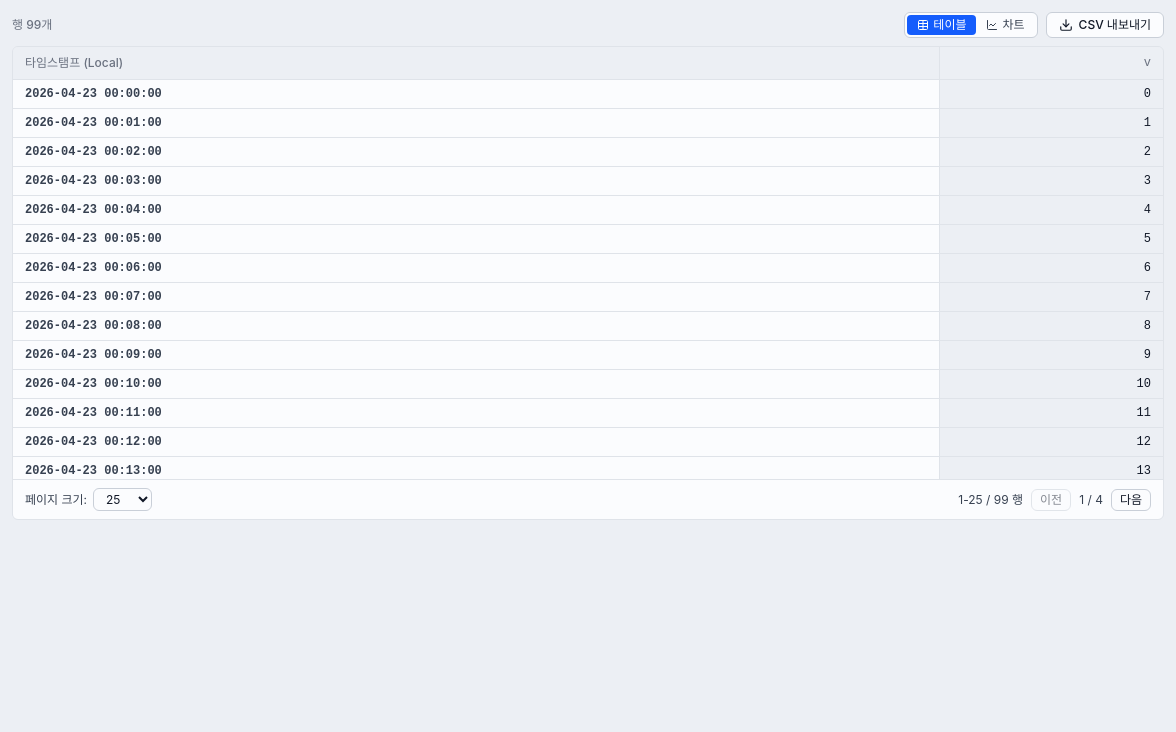
it: SeriesResultMatrix: 페이지네이션 › 페이지 크기 100 으로 99 행 매트릭스는 "1-99 / 99 행"
The image size is (1176, 732).
Select "100" in the dropdown with test id "tsdb-page-size" at (122, 500), box [93,488,152,511]
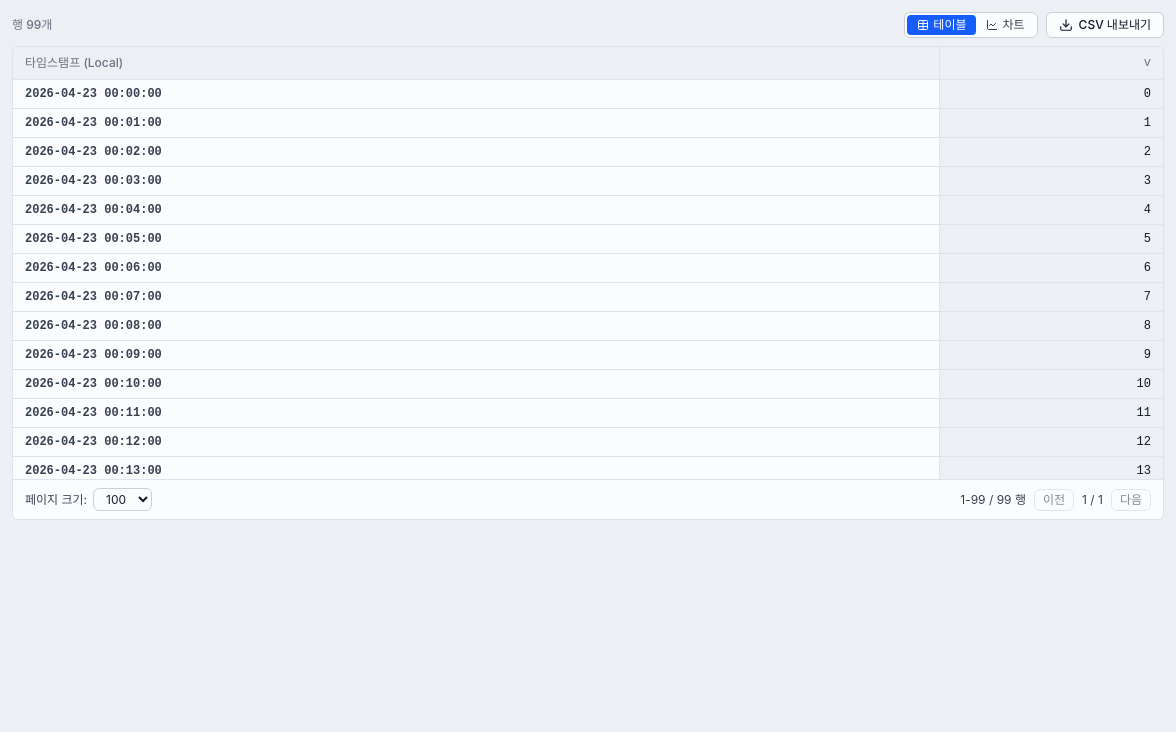
Expected: the text with test id "tsdb-page-range" reads "1-99 / 99 행", [960,492,1026,508]
Expected: the text with test id "tsdb-page-indicator" reads "1 / 1", [1082,492,1103,508]
